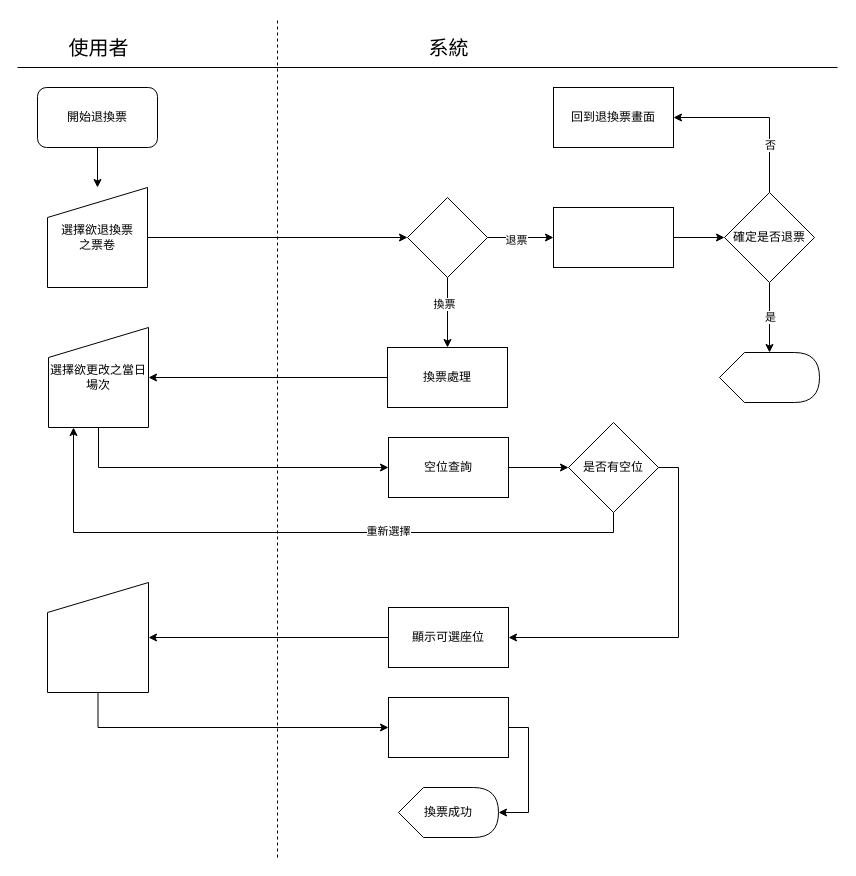
Image size: 856x876. Some labels were removed from this diagram. Each missing label, with the box of its shape:
執行換票: (388, 696, 508, 758)
退票成功: (718, 352, 820, 402)
退票處理: (552, 206, 674, 268)
選擇座位: (46, 582, 148, 692)
選擇退換票: (406, 196, 488, 278)
